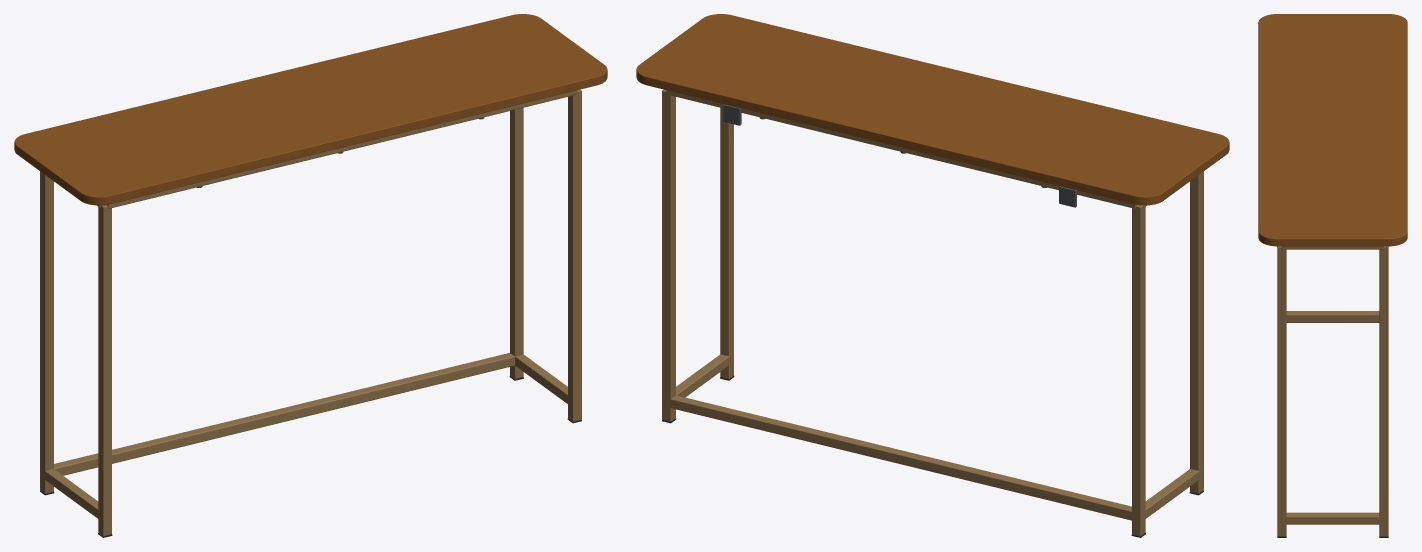
The model's file is console.glb.
3 views of the same model, side by side, from view 1: azimuth 30°, elevation 25°; view 2: azimuth 150°, elevation 25°; view 3: azimuth 270°, elevation 25° (orthographic). The views are drawn at different scales.
Visible parts, largest first — view 1: Stone top | 20 mm PROVISIONAL | 04_Console, Brace | lower rear stretcher, Base | rectangular stainless leg, Base | rectangular stainless leg.002, Base | rectangular stainless leg.001, Base | rectangular stainless leg.003, Support | longitudinal steel rail PROVISIONAL.004, Brace | lower side rail, Brace | lower side rail.001; view 2: Stone top | 20 mm PROVISIONAL | 04_Console, Brace | lower rear stretcher, Base | rectangular stainless leg.001, Base | rectangular stainless leg.003, Base | rectangular stainless leg, Base | rectangular stainless leg.002, Support | longitudinal steel rail PROVISIONAL.005, Brace | lower side rail, Brace | lower side rail.001; view 3: Stone top | 20 mm PROVISIONAL | 04_Console, Base | rectangular stainless leg.003, Base | rectangular stainless leg.002, Brace | lower side rail.001, Brace | lower side rail, Support | transverse steel rail PROVISIONAL.005.
Part boxes in pixels (x1,y1,x2,y2): Stone top | 20 mm PROVISIONAL | 04_Console: (14,14,607,205); Brace | lower rear stretcher: (54,353,514,475); Base | rectangular stainless leg: (98,205,111,536); Base | rectangular stainless leg.002: (568,89,581,421); Base | rectangular stainless leg.001: (40,171,53,493); Base | rectangular stainless leg.003: (510,107,523,378); Support | longitudinal steel rail PROVISIONAL.004: (107,90,577,208); Brace | lower side rail: (41,469,98,518); Brace | lower side rail.001: (515,354,567,403); Stone top | 20 mm PROVISIONAL | 04_Console: (636,14,1229,205); Brace | lower rear stretcher: (667,395,1135,520); Base | rectangular stainless leg.001: (1132,205,1145,536); Base | rectangular stainless leg.003: (662,89,675,421); Base | rectangular stainless leg: (1190,171,1203,493); Base | rectangular stainless leg.002: (720,107,733,378); Support | longitudinal steel rail PROVISIONAL.005: (666,90,1136,208); Brace | lower side rail: (1141,469,1203,521); Brace | lower side rail.001: (676,354,733,397); Stone top | 20 mm PROVISIONAL | 04_Console: (1258,14,1407,246); Base | rectangular stainless leg.003: (1379,246,1388,536); Base | rectangular stainless leg.002: (1277,246,1286,536); Brace | lower side rail.001: (1278,512,1387,524); Brace | lower side rail: (1286,311,1379,322); Support | transverse steel rail PROVISIONAL.005: (1282,246,1383,249).
Size of the model in its own units: 1.25 by 0.8 by 0.35.
